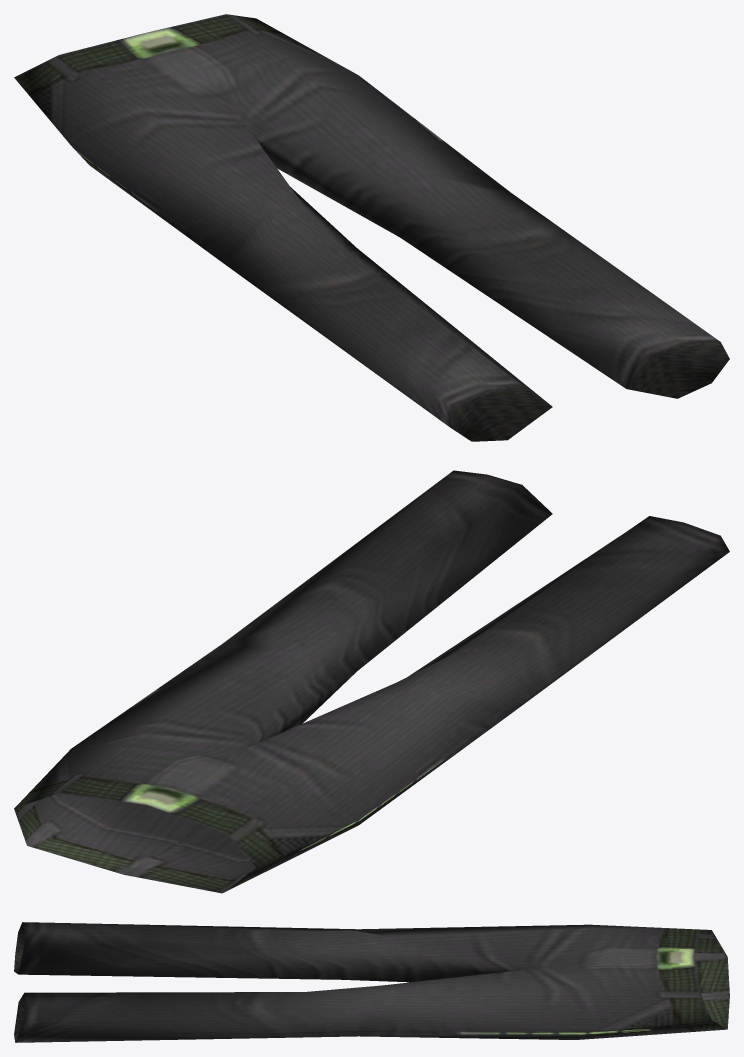
File: m_Legs3.glb
3 renders of one model, top to bottom at view 1: azimuth 30°, elevation 25°; view 2: azimuth 150°, elevation 25°; view 3: azimuth 270°, elevation 25°, orthographic. The views are drawn at different scales.
Parts seen in each view (by area): view 1: Legs3; view 2: Legs3; view 3: Legs3.
Boxes of the visible parts, bbox=[...] form: Legs3: bbox=[14, 14, 729, 441]; Legs3: bbox=[14, 470, 729, 893]; Legs3: bbox=[14, 922, 729, 1042].
Bounding box in the file's own units: 19.54 × 3.95 × 55.13.
Materials: 1 (1 with a texture image).
